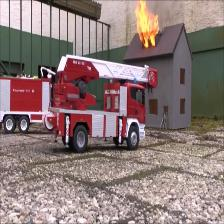fire: (129, 4, 164, 45)
